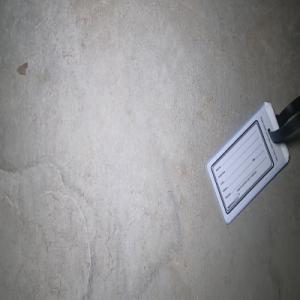LuggageTag: (204, 95, 300, 227)
